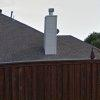Chimney: (38, 4, 59, 63)
